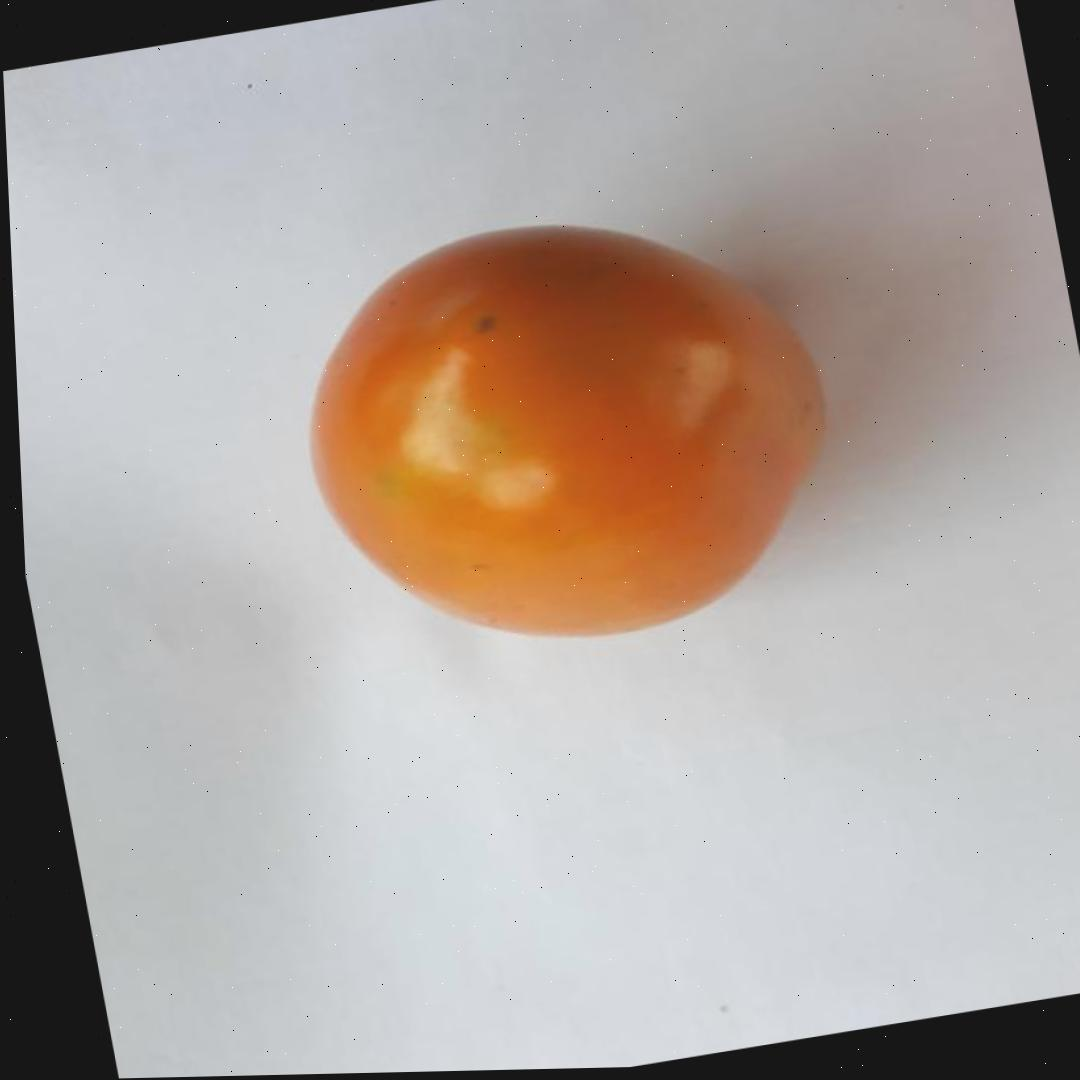setengah_matang: (264, 180, 866, 686)
